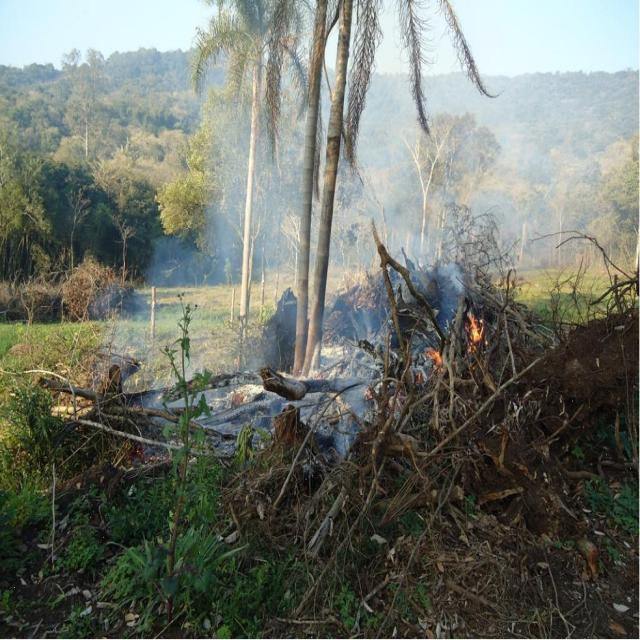Fire: (460, 298, 488, 362), (410, 342, 452, 379)
Smoke: (91, 4, 600, 448), (99, 120, 251, 438), (427, 224, 471, 312)
